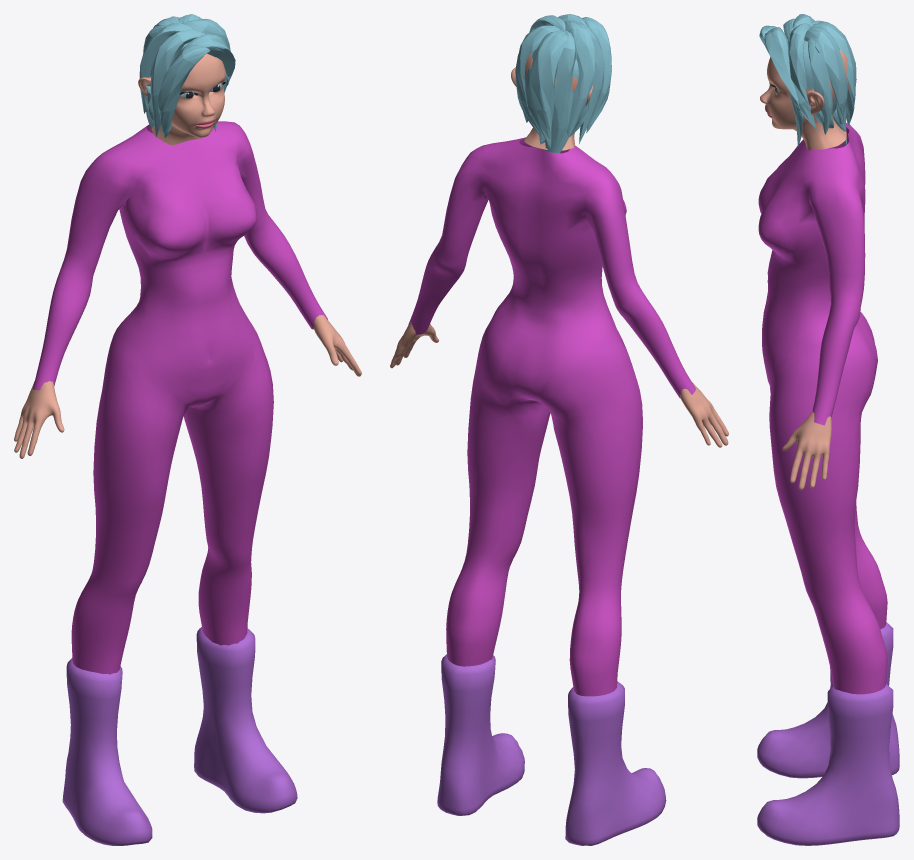
File: 03-MISTURADO FULL.fbx
3 views of the same model, side by side, from view 1: azimuth 30°, elevation 25°; view 2: azimuth 150°, elevation 25°; view 3: azimuth 270°, elevation 25° (orthographic). The views are drawn at different scales.
Visible parts, largest first — view 1: Cylinder.002, CABELO; view 2: Cylinder.002, CABELO; view 3: Cylinder.002, CABELO.
Boxes of the visible parts, <box> form: Cylinder.002: <box>14,43,361,845</box>; CABELO: <box>139,14,235,137</box>; Cylinder.002: <box>390,52,728,845</box>; CABELO: <box>515,14,611,153</box>; Cylinder.002: <box>757,38,899,845</box>; CABELO: <box>759,14,856,146</box>.
Size of the model in its own units: 77.28 by 173 by 28.68.
